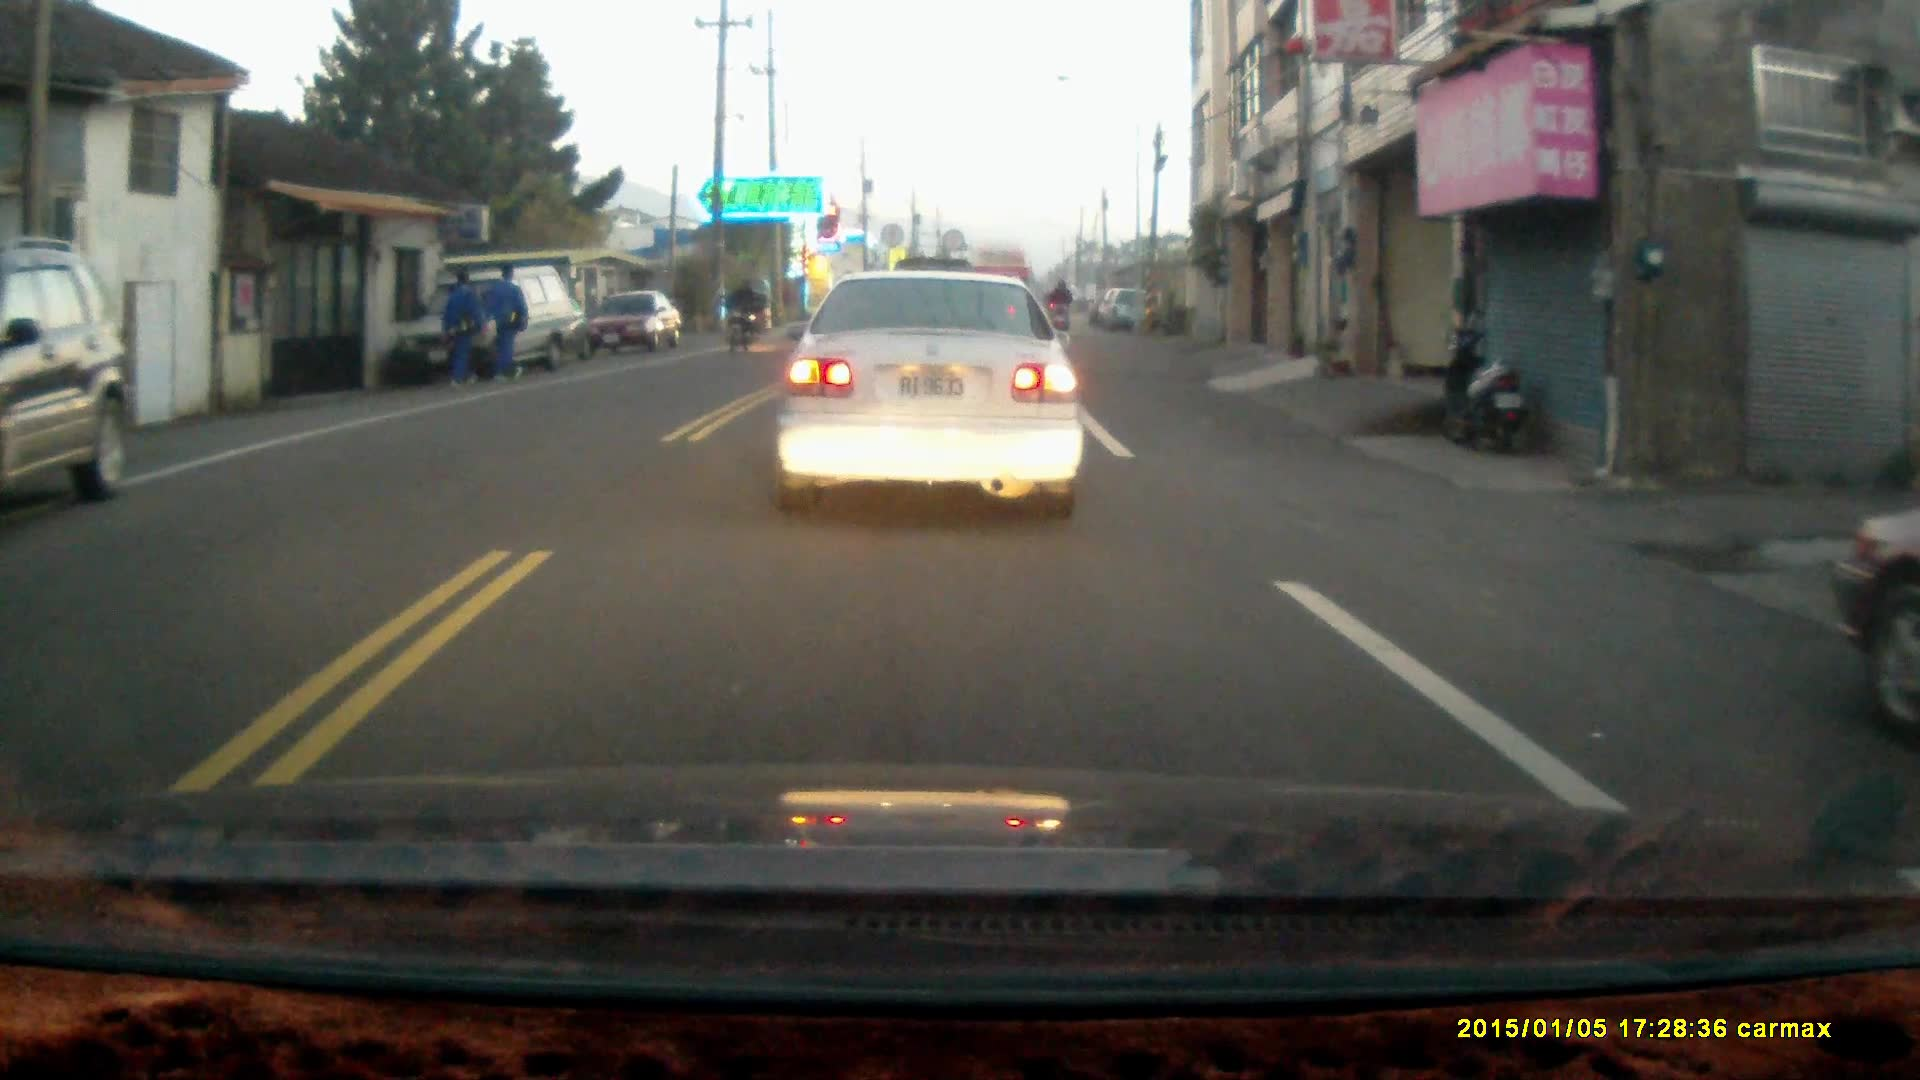pedestrian: (439, 267, 481, 392), (487, 262, 526, 388)
rider: (719, 277, 760, 351)
vehicle: (771, 271, 1088, 523), (1, 254, 133, 535), (415, 269, 591, 386), (1827, 508, 1920, 671), (580, 296, 686, 359)
